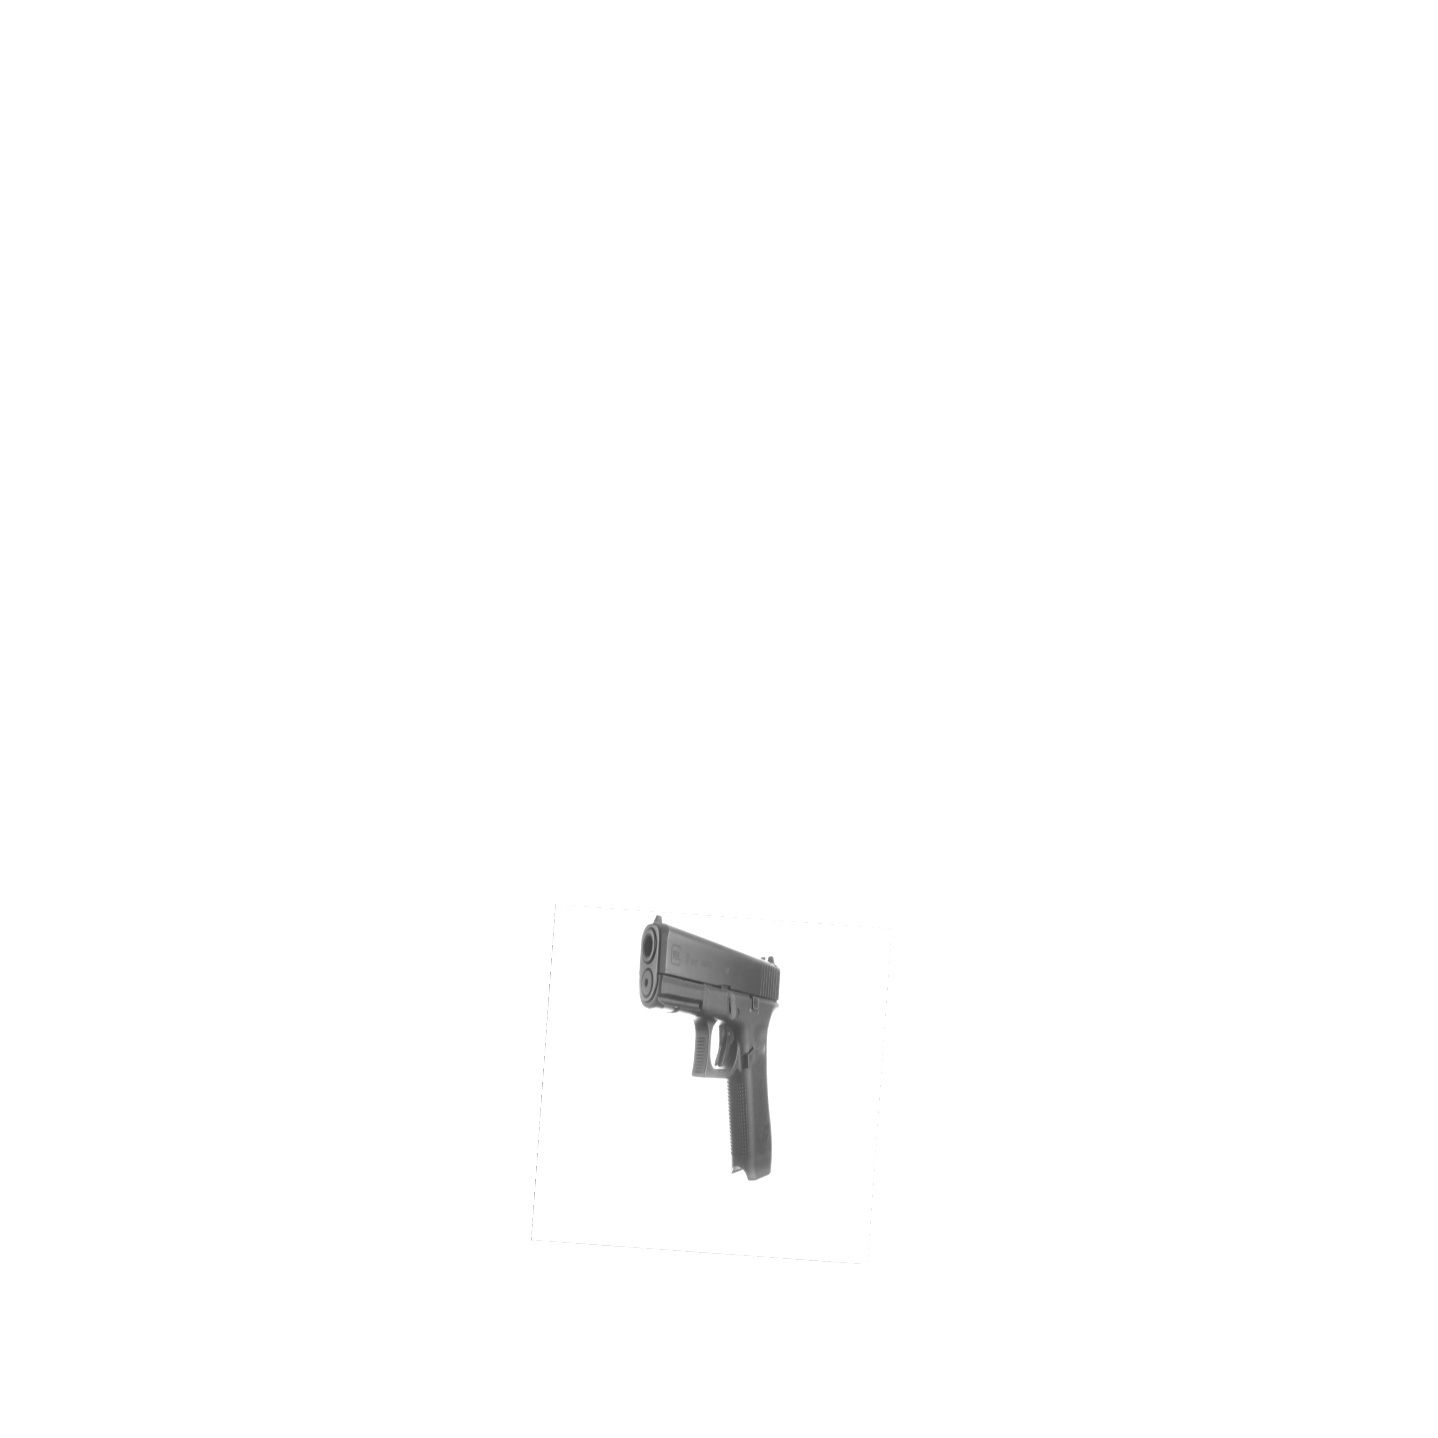gun: (636, 914, 790, 1190)
